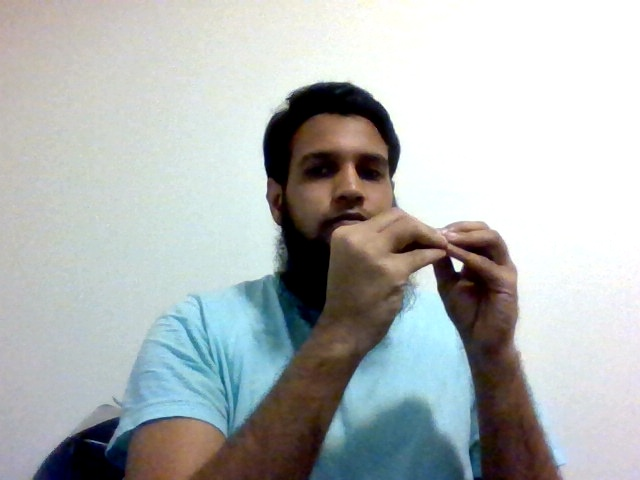more: (321, 205, 529, 360)
